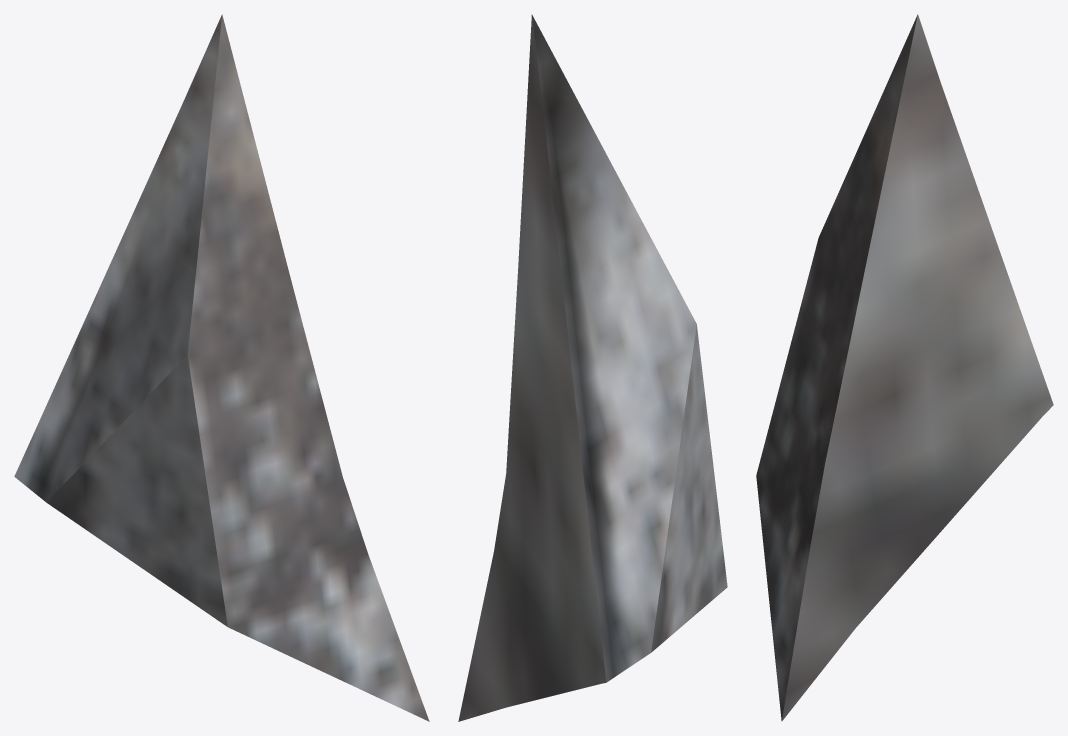
Rendered from Asteroid_Large_001_02_006_03_013.fbx.
3 renders of one model, left to right at view 1: azimuth 30°, elevation 25°; view 2: azimuth 150°, elevation 25°; view 3: azimuth 270°, elevation 25°, orthographic. The views are drawn at different scales.
Visible parts, largest first — view 1: Asteroid_Large_001_02_006_03_013; view 2: Asteroid_Large_001_02_006_03_013; view 3: Asteroid_Large_001_02_006_03_013.
Boxes of the visible parts, bbox=[...] form: Asteroid_Large_001_02_006_03_013: bbox=[14, 14, 429, 721]; Asteroid_Large_001_02_006_03_013: bbox=[458, 14, 727, 721]; Asteroid_Large_001_02_006_03_013: bbox=[756, 14, 1053, 721].
Size of the model in its own units: 1.15 by 2.76 by 1.15.
